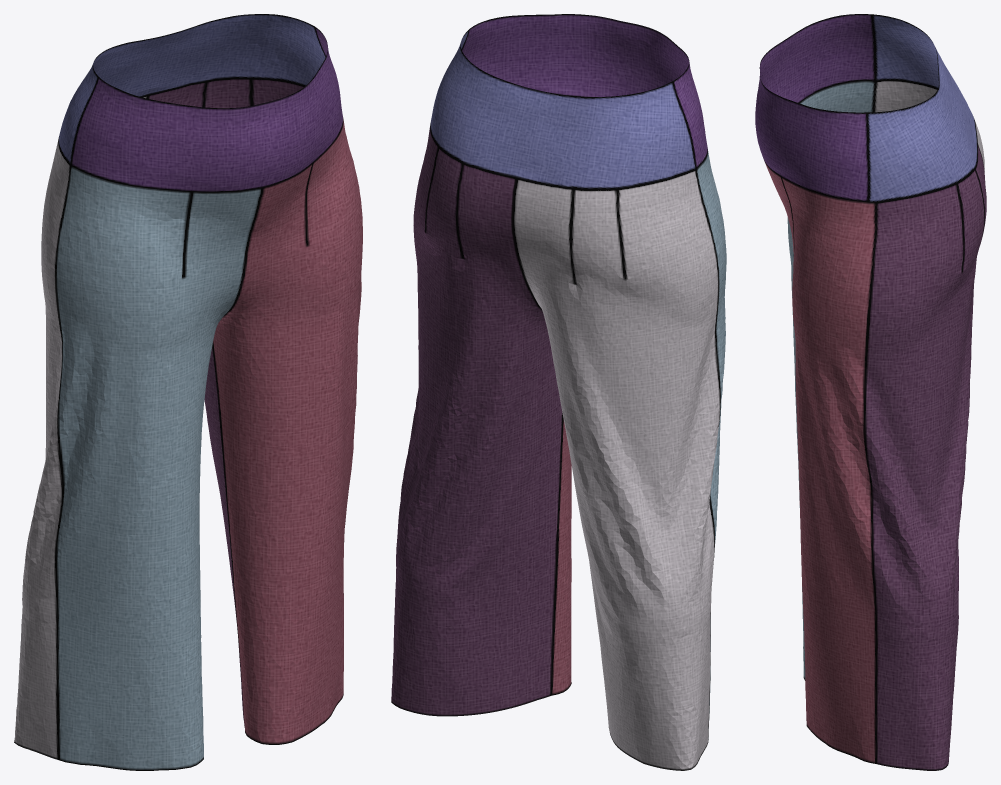
The model's file is generated_rand_3MX8P0MTR6_sim.obj.
3 views of the same model, side by side, from view 1: azimuth 30°, elevation 25°; view 2: azimuth 150°, elevation 25°; view 3: azimuth 270°, elevation 25° (orthographic). The views are drawn at different scales.
Size of the model in its own units: 43.45 by 90.71 by 29.69.
1 material, 1 textured.
